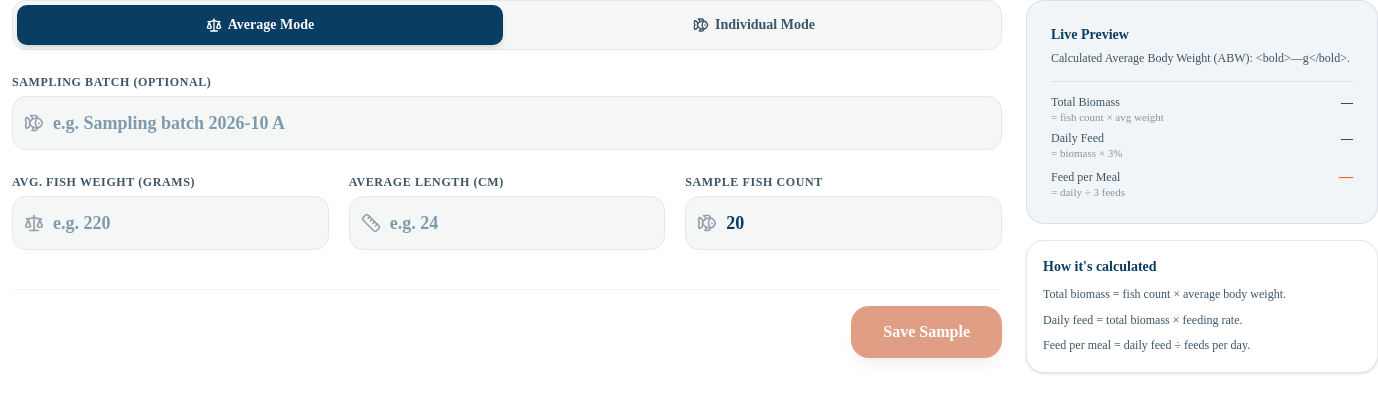
Test case: biomass result status (#751) › does not present a rejected calculation as an applied feed
Type "220" into the number field labelled "Avg. Fish Weight (grams)" at {"x": 170, "y": 223}, box [12, 196, 329, 250]
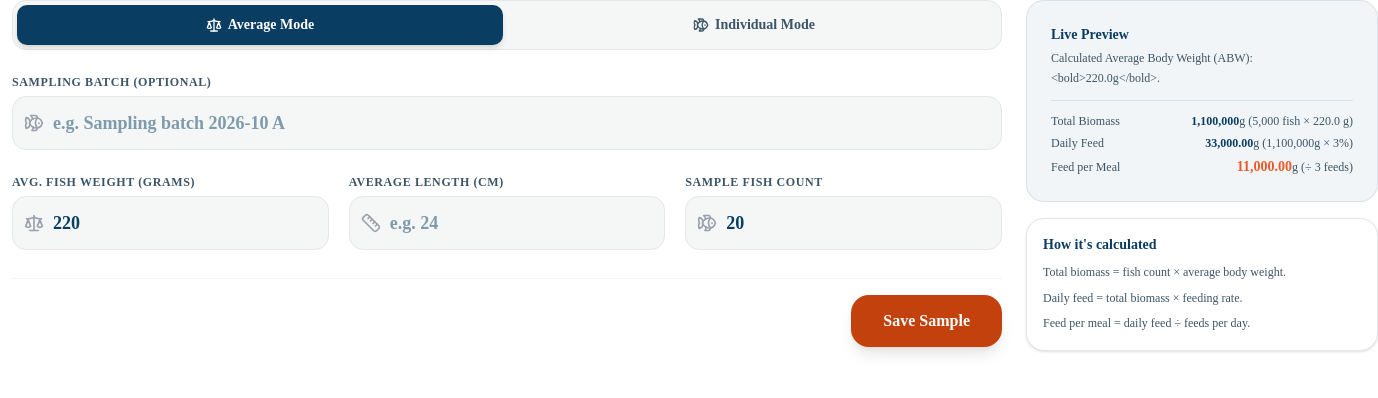
Type "24" into the number field labelled "Average Length (cm)" at {"x": 507, "y": 223}, box [349, 196, 665, 250]
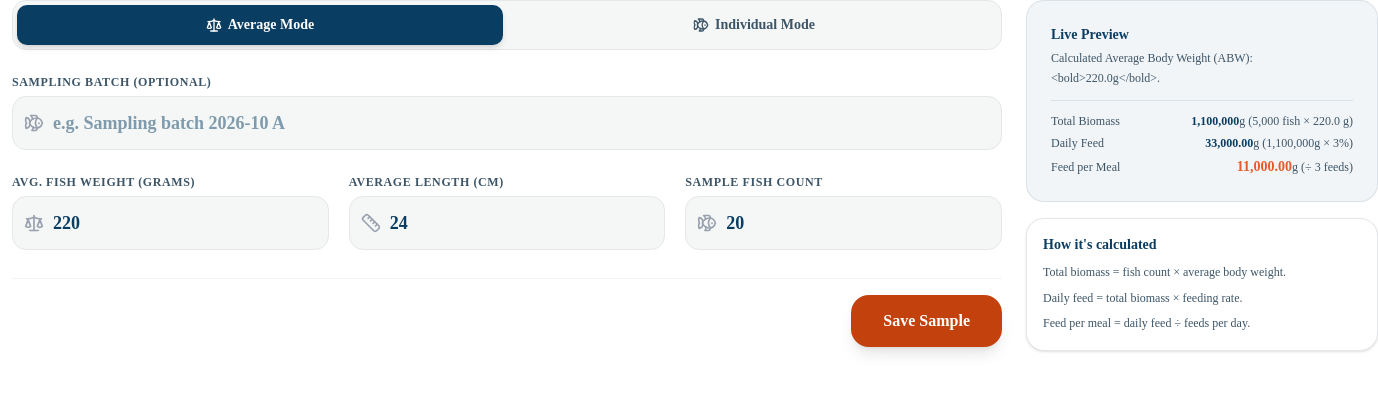
Click the button "Save Sample" at {"x": 927, "y": 321}, box [851, 295, 1002, 347]
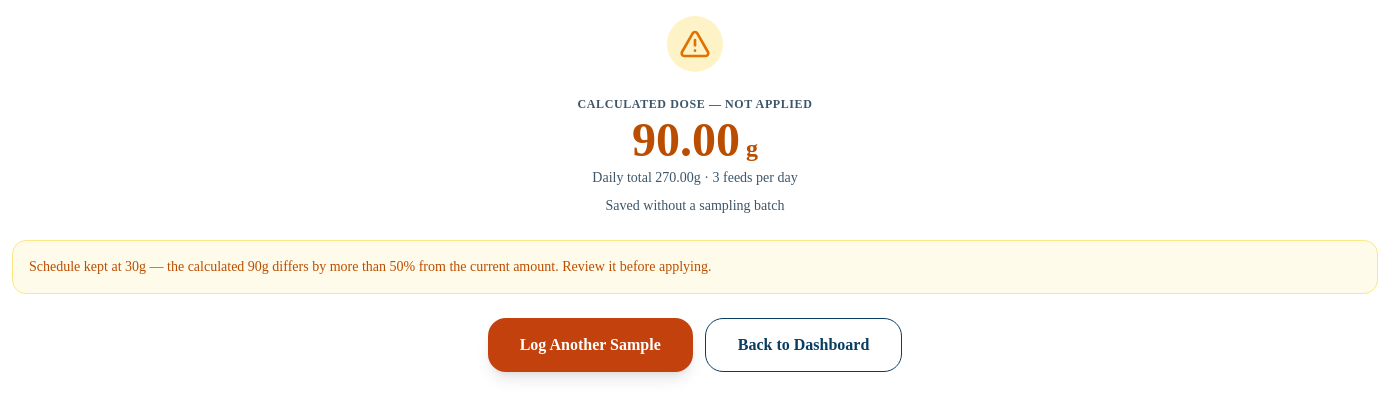
expect the text "Calculated dose — not applied" is shown: met, box [578, 97, 812, 111]
